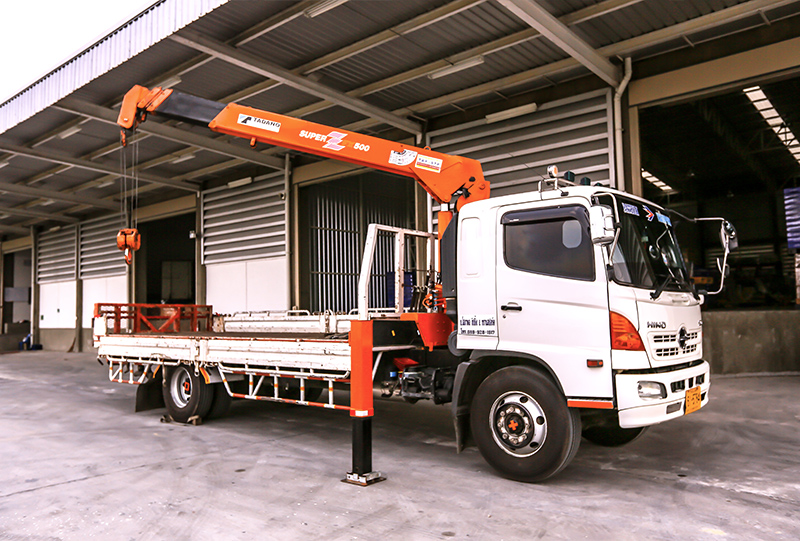truck: (92, 183, 712, 482)
